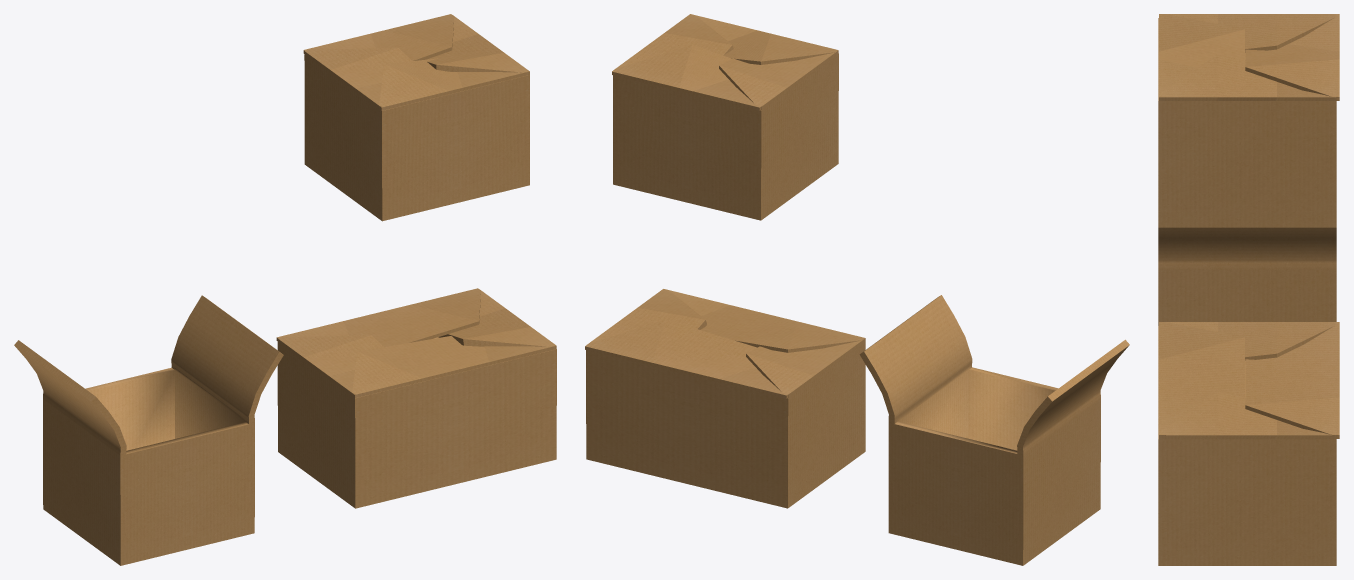
File: craft_boxes.fbx
3 renders of one model, left to right at view 1: azimuth 30°, elevation 25°; view 2: azimuth 150°, elevation 25°; view 3: azimuth 270°, elevation 25°, orthographic. The views are drawn at different scales.
Visible parts, largest first — view 1: BoxCrate03, BoxCrate01, BoxCrate02; view 2: BoxCrate03, BoxCrate01, BoxCrate02; view 3: BoxCrate03, BoxCrate02, BoxCrate01.
Boxes of the visible parts, bbox=[...] form: BoxCrate03: bbox=[276, 288, 556, 508]; BoxCrate01: bbox=[14, 295, 283, 565]; BoxCrate02: bbox=[303, 14, 529, 221]; BoxCrate03: bbox=[585, 289, 865, 508]; BoxCrate01: bbox=[859, 295, 1129, 565]; BoxCrate02: bbox=[612, 14, 838, 220]; BoxCrate03: bbox=[1158, 322, 1339, 565]; BoxCrate02: bbox=[1158, 14, 1339, 227]; BoxCrate01: bbox=[1158, 227, 1336, 325].
Bounding box in the file's own units: 1.73 × 1.43 × 0.508.
